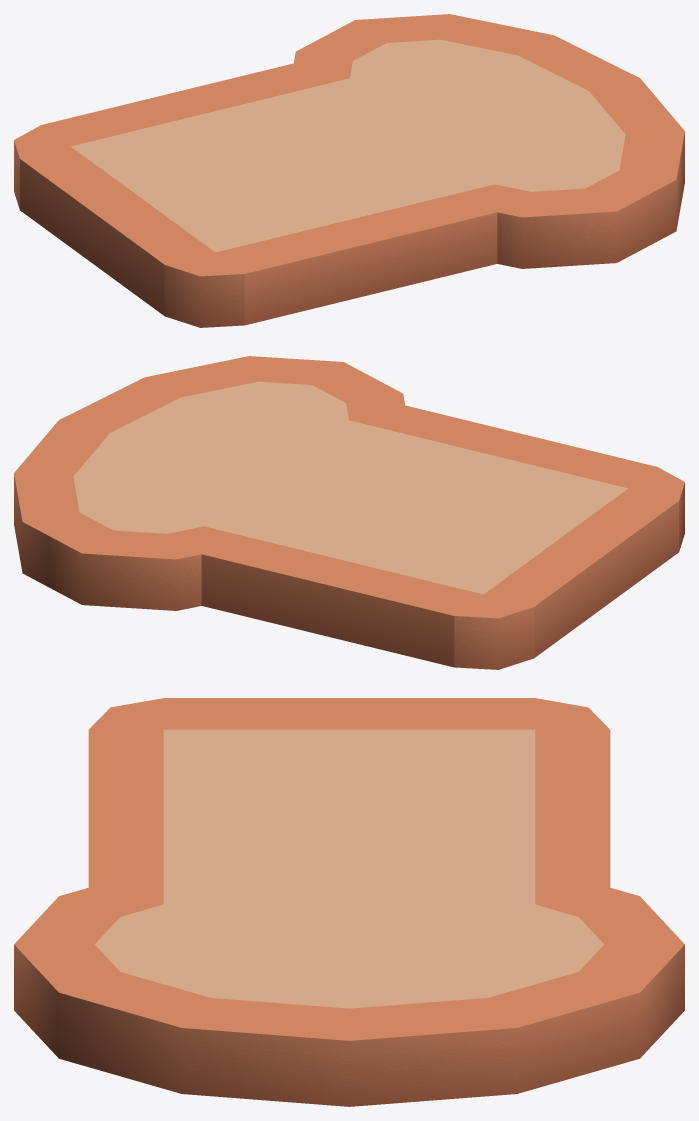
File: bread.glb
3 views of the same model, one above another, from view 1: azimuth 30°, elevation 25°; view 2: azimuth 150°, elevation 25°; view 3: azimuth 270°, elevation 25° (orthographic). The views are drawn at different scales.
Parts seen in each view (by area): view 1: bread; view 2: bread; view 3: bread.
Part boxes in pixels (box(x1,y1,x2,y2)): bread: box(14, 14, 684, 327); bread: box(14, 356, 684, 669); bread: box(14, 698, 684, 1106).
Bounding box in the file's own units: 0.4423 × 0.0397 × 0.3659.
Materials: 1 (1 with a texture image).
